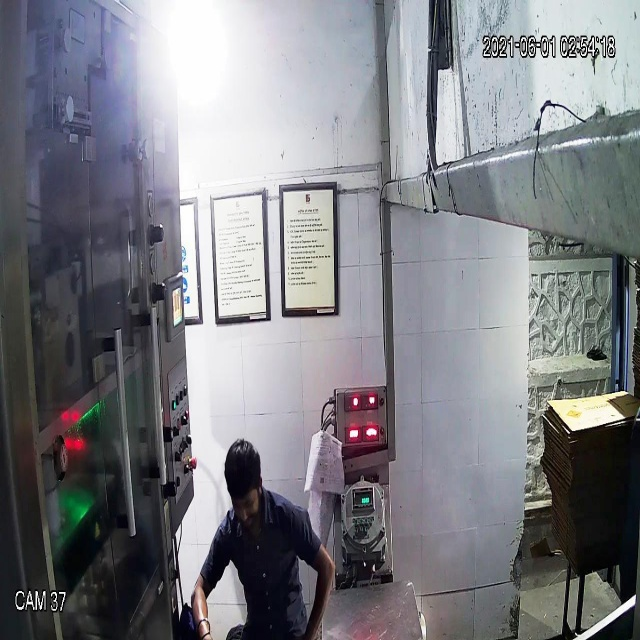Sin_gafas: (226, 490, 263, 518)
